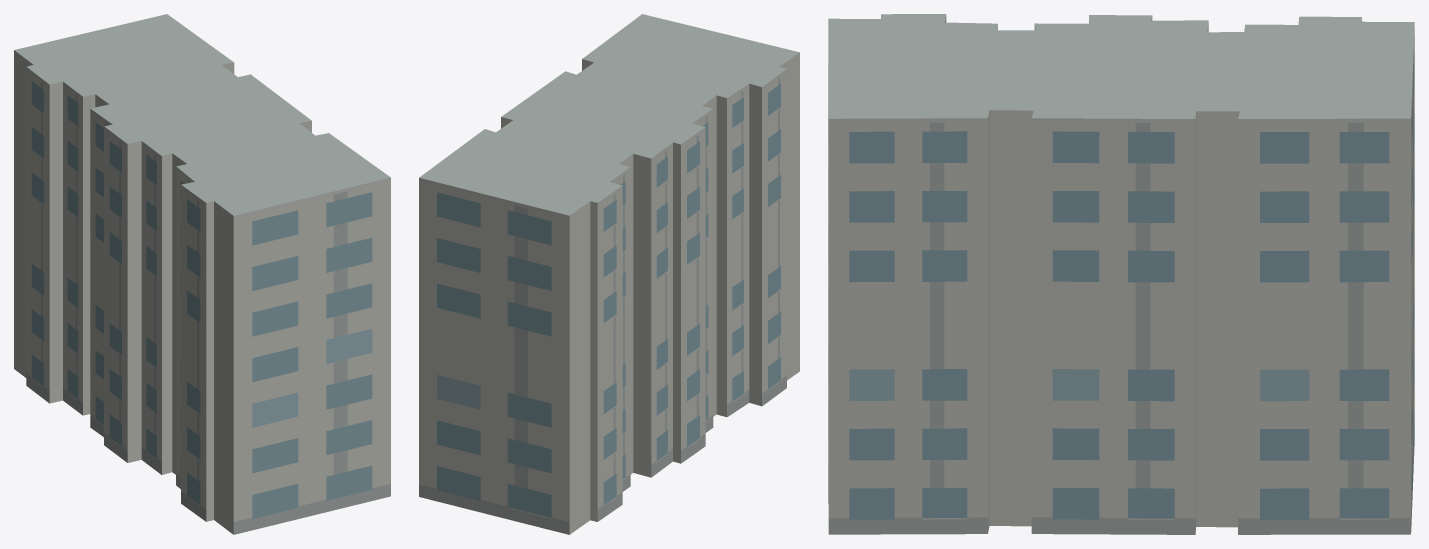
The model's file is survey-upis-32790809.glb.
3 renders of one model, left to right at view 1: azimuth 30°, elevation 25°; view 2: azimuth 150°, elevation 25°; view 3: azimuth 270°, elevation 25°, orthographic. The views are drawn at different scales.
Visible parts, largest first — view 1: survey-upis-32790809.tmp; view 2: survey-upis-32790809.tmp; view 3: survey-upis-32790809.tmp.
Part boxes in pixels (<box>): survey-upis-32790809.tmp: <box>14,14,390,534</box>; survey-upis-32790809.tmp: <box>419,14,799,534</box>; survey-upis-32790809.tmp: <box>828,14,1414,534</box>.
Size of the model in its own units: 13.08 by 24.1 by 30.82.
